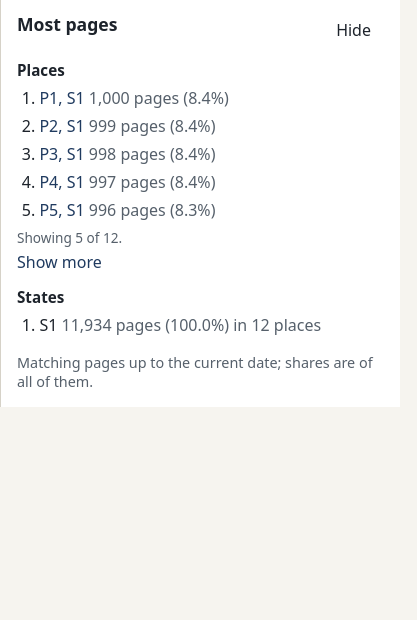
Test: Most pages: Show more › shows five places, says how many there are, adds five, and goes back
The width and height of the screenshot is (417, 620).
Expected: the element "Places" shows "Showing 5 of 12.", [17, 228, 122, 247]
Expected: the button "Show fewer" is not shown
Click the button "Show more". click: point(59, 262)
box: [17, 249, 102, 275]
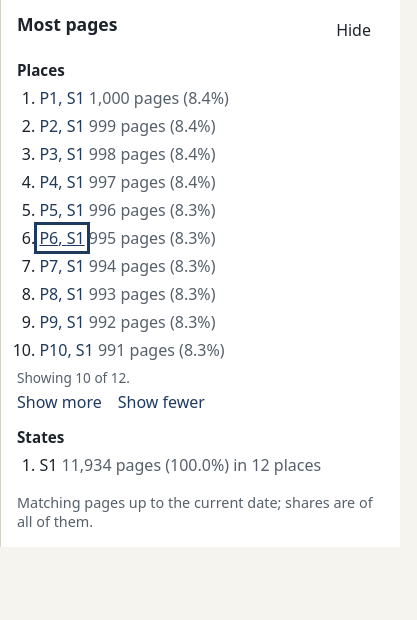
Expected: the element "Places" shows "Showing 10 of 12.", [17, 368, 130, 387]
Expected: the button "P6, S1" is shown, [39, 227, 85, 249]
Expected: the button "Show more" is expanded
Click the button "Show more". click: point(59, 402)
box: [17, 389, 102, 415]
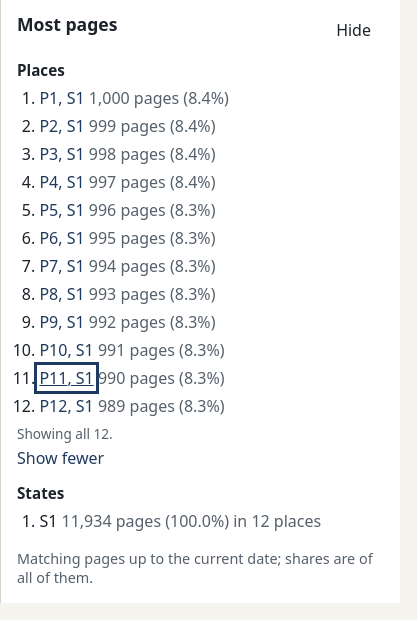
Expected: the element "Places" shows "Showing all 12.", [17, 424, 113, 443]
Expected: the button "Show more" is gone
Click the button "Show fewer". click: point(61, 458)
box: [17, 445, 104, 471]
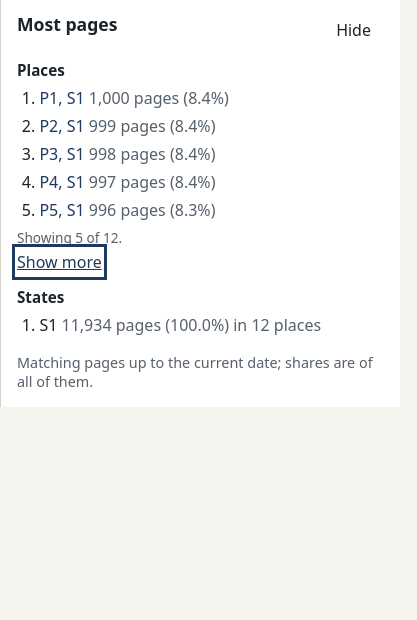
Expected: the element "Places" shows "Showing 5 of 12.", [17, 228, 122, 247]
